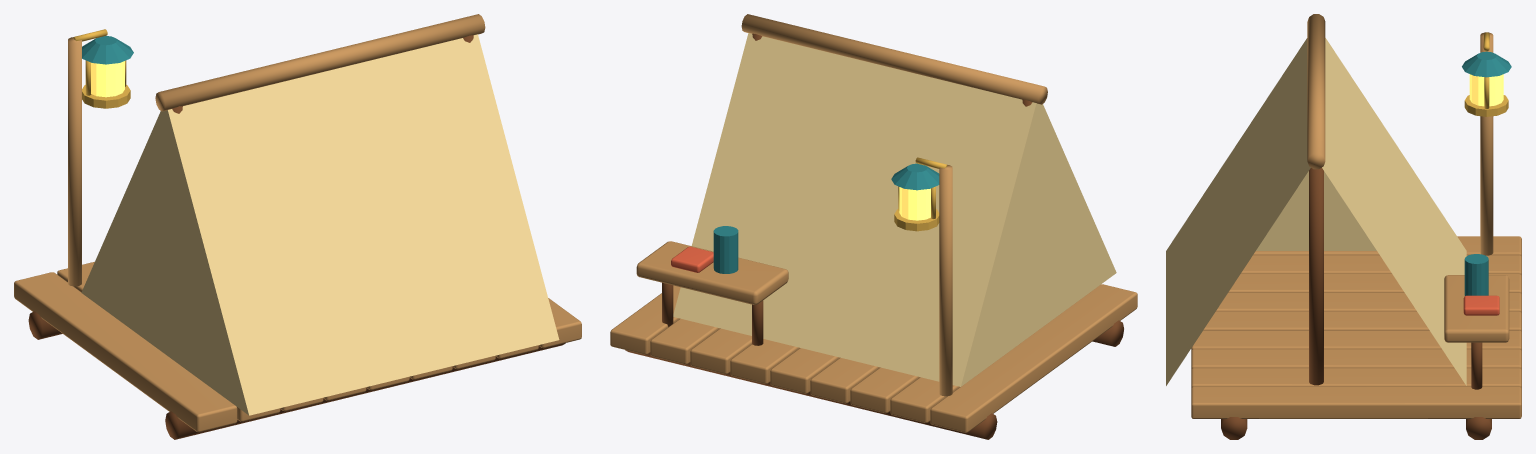
Rendered from canopy-field-station.glb.
3 views of the same model, side by side, from view 1: azimuth 30°, elevation 25°; view 2: azimuth 150°, elevation 25°; view 3: azimuth 270°, elevation 25° (orthographic). The views are drawn at different scales.
Parts seen in each view (by area): view 1: Structure, AnimatedDetail; view 2: Structure, AnimatedDetail; view 3: Structure, AnimatedDetail.
Part boxes in pixels (bbox=[...]): Structure: bbox=[14, 14, 581, 439]; AnimatedDetail: bbox=[73, 29, 133, 108]; Structure: bbox=[610, 14, 1137, 439]; AnimatedDetail: bbox=[891, 157, 947, 231]; Structure: bbox=[1166, 14, 1521, 439]; AnimatedDetail: bbox=[1462, 32, 1511, 116].
Bounding box in the file's own units: 4 × 2.99 × 3.55.
